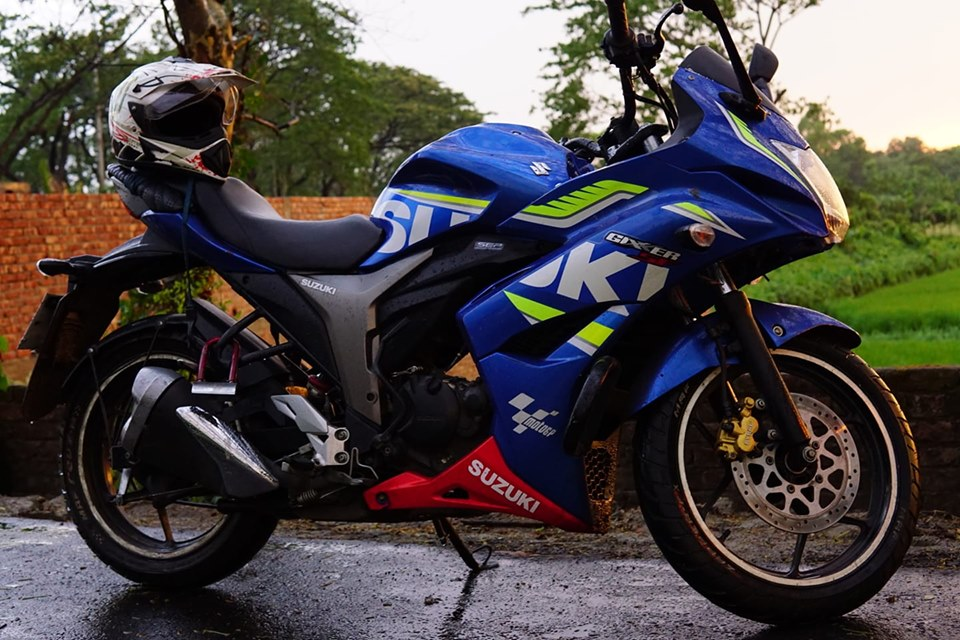bike: (11, 1, 922, 627)
